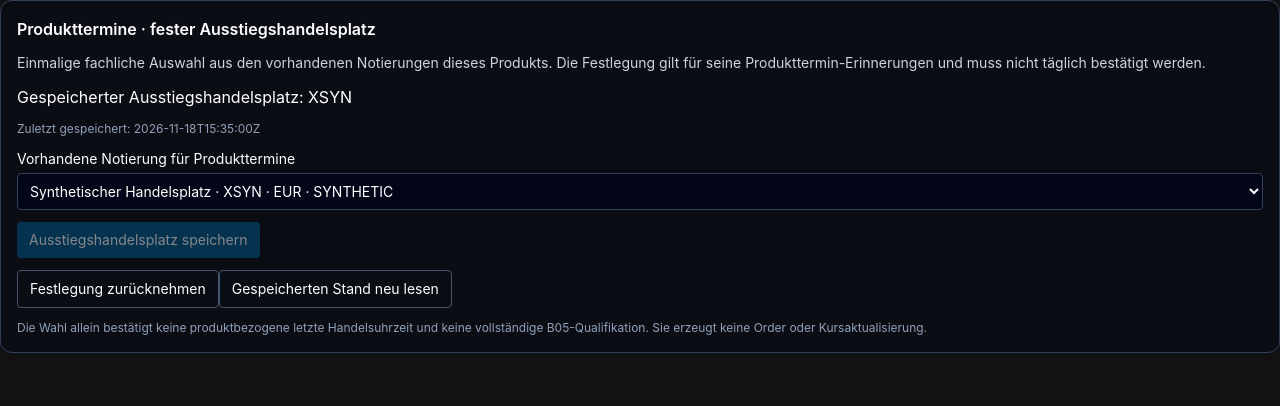
Test case: allows an explicit withdrawal and leaves the previous listing unselected
Click the button "Festlegung zurücknehmen".
click(118, 289)  # box [17,270,219,308]
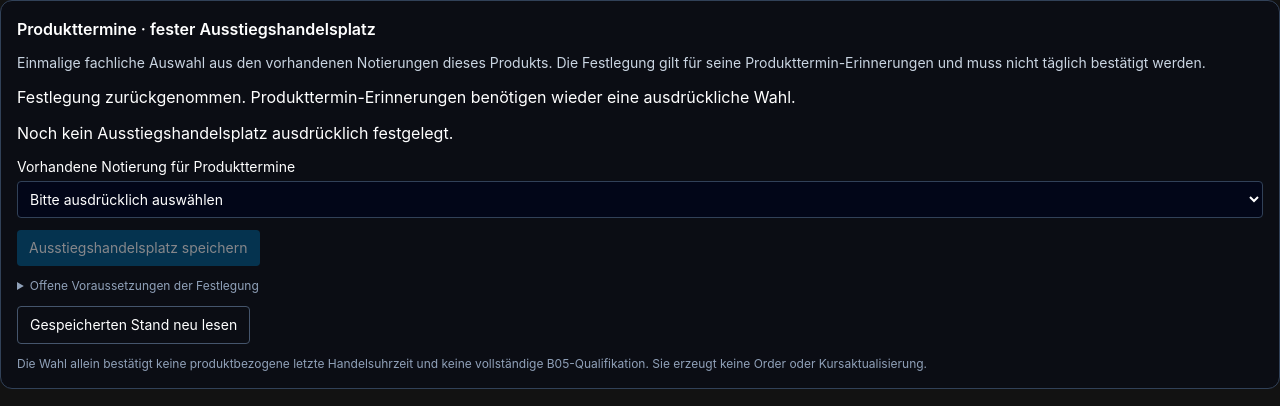
Expected: the button "Ausstiegshandelsplatz speichern" is disabled, [17,230,260,266]
Now the message shows "Festlegung zurückgenommen", box [17,87,796,107]
Now the dropdown labelled "Vorhandene Notierung für Produkttermine" shows "Bitte ausdrücklich auswählen", box [17,181,1263,218]
